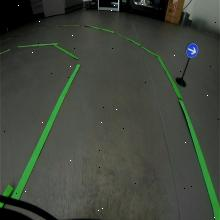right: (185, 41, 199, 59)
